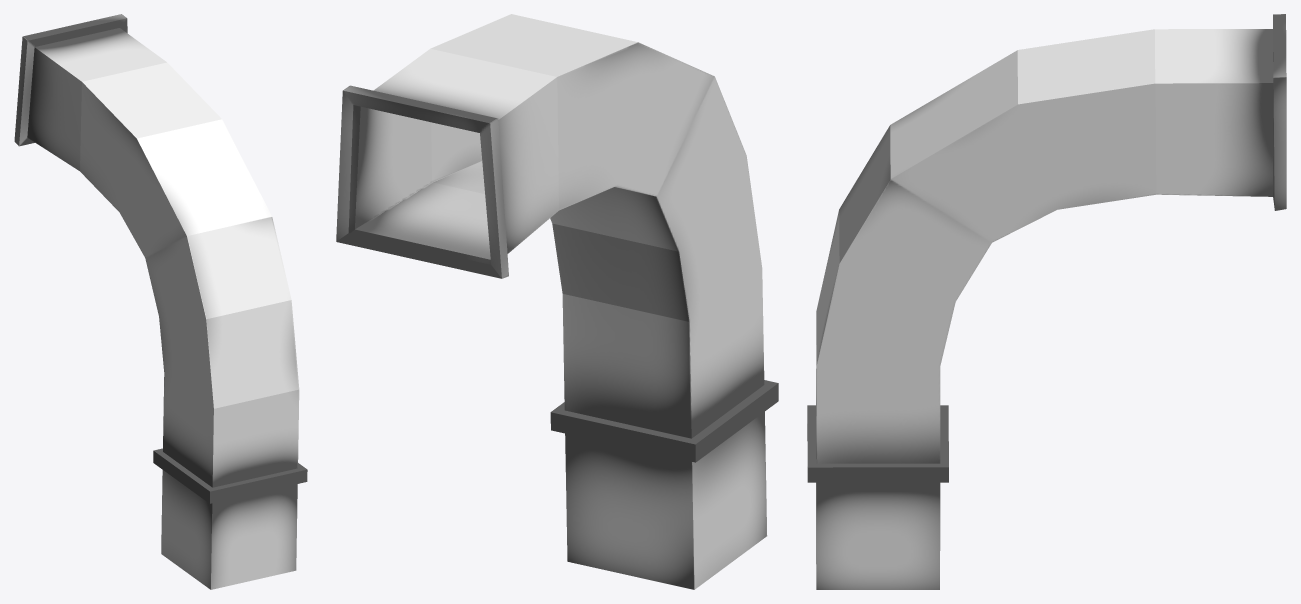
The model's file is Vent3.fbx.
3 renders of one model, left to right at view 1: azimuth 30°, elevation 25°; view 2: azimuth 150°, elevation 25°; view 3: azimuth 270°, elevation 25°, orthographic. The views are drawn at different scales.
Parts seen in each view (by area): view 1: Cube; view 2: Cube; view 3: Cube.
Boxes of the visible parts, x1,y1,x2,y2 form: Cube: (14, 14, 307, 589); Cube: (336, 14, 778, 589); Cube: (807, 14, 1286, 589).
Size of the model in its own units: 259 by 924 by 767.
1 material, 1 textured.
